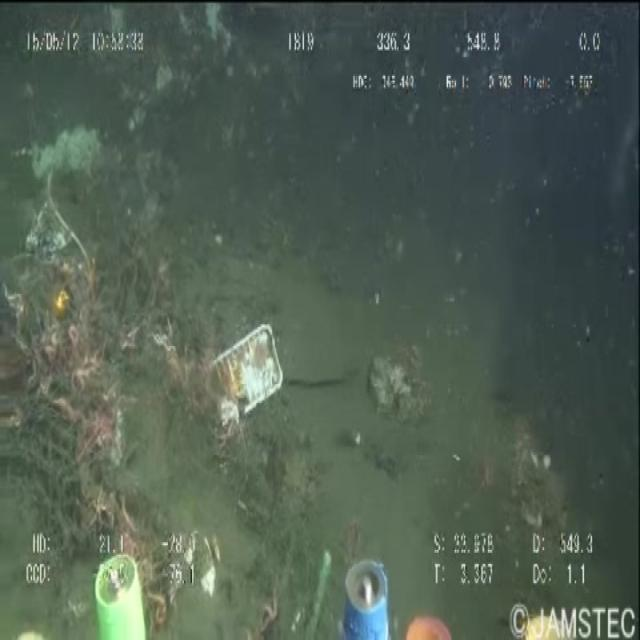Cutlery: (195, 320, 294, 432)
Rope: (28, 211, 206, 616)
